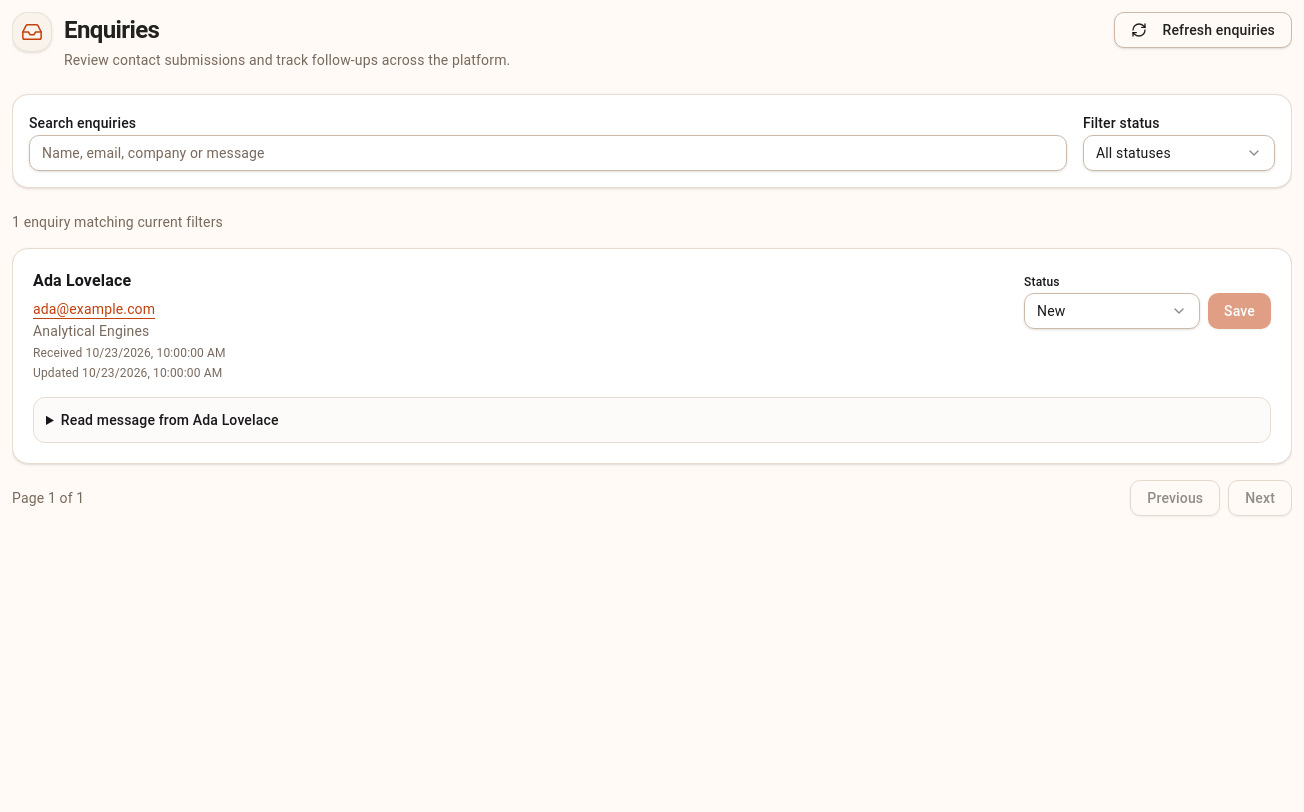
Test case: AdminContacts › reports mutation failure and lets Save retry without losing the selected status
This screenshot has width=1304, height=812.
Check: the heading "Ada Lovelace" is shown, box [33,271,131,290]
Click the dropdown labelled "New" at (1112, 311), box [1024,293,1200,329]
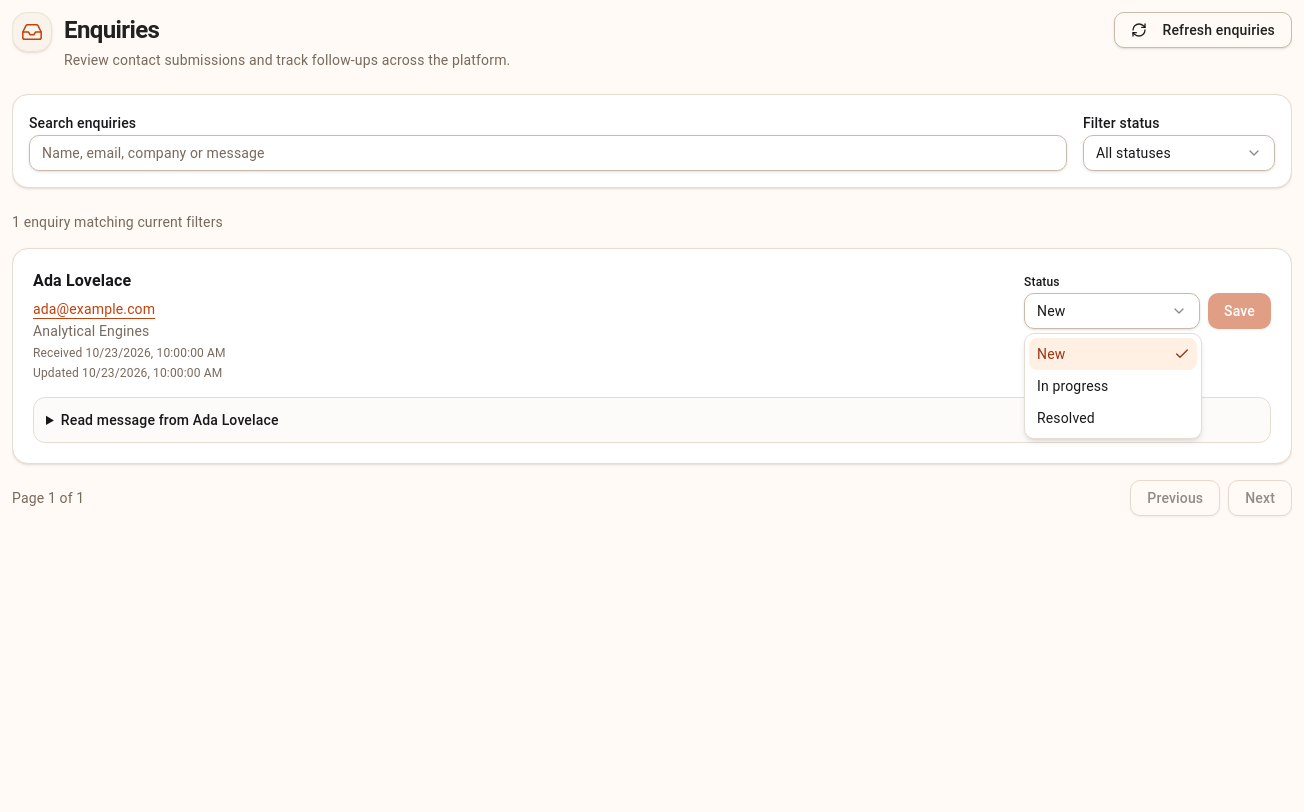
Click the option "Resolved" at (1066, 418), box [1037,410,1095,426]
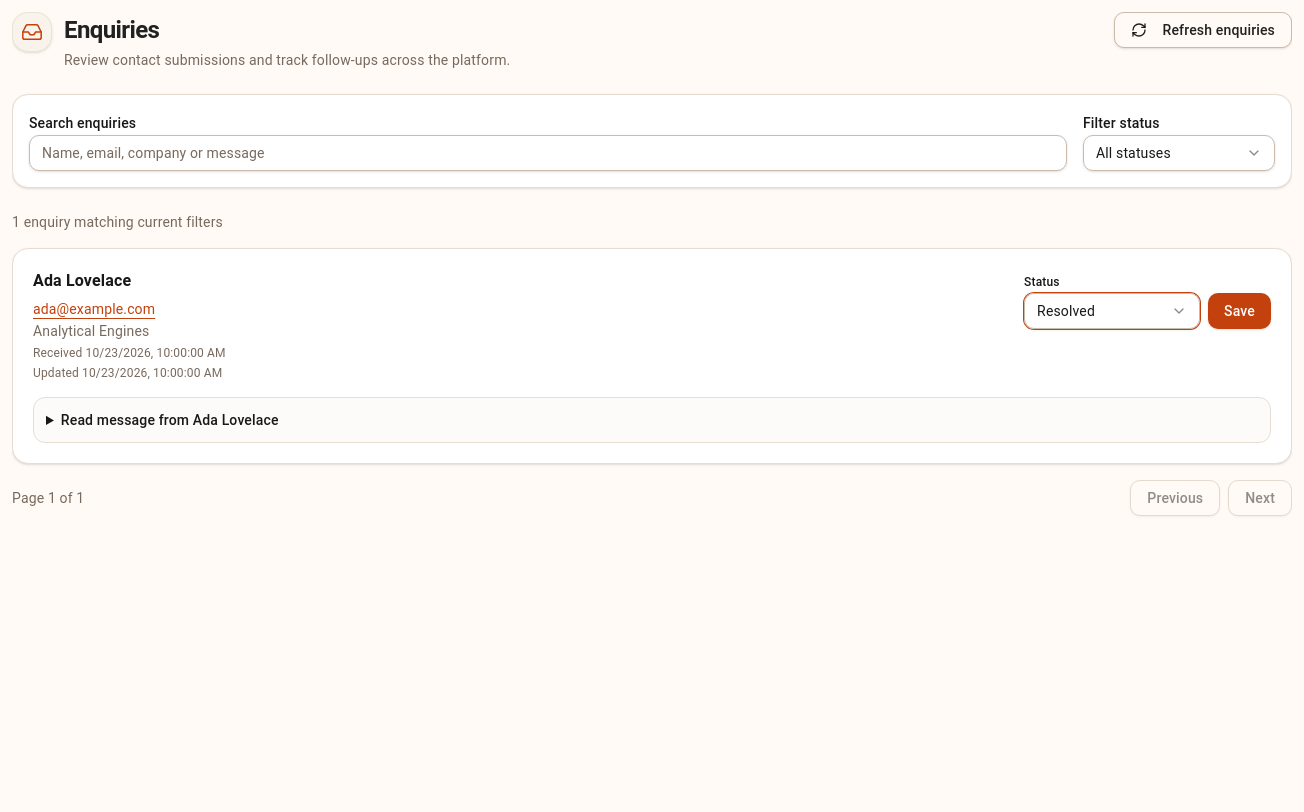
Click the button "Save" at (1240, 311), box [1208,293,1271,329]
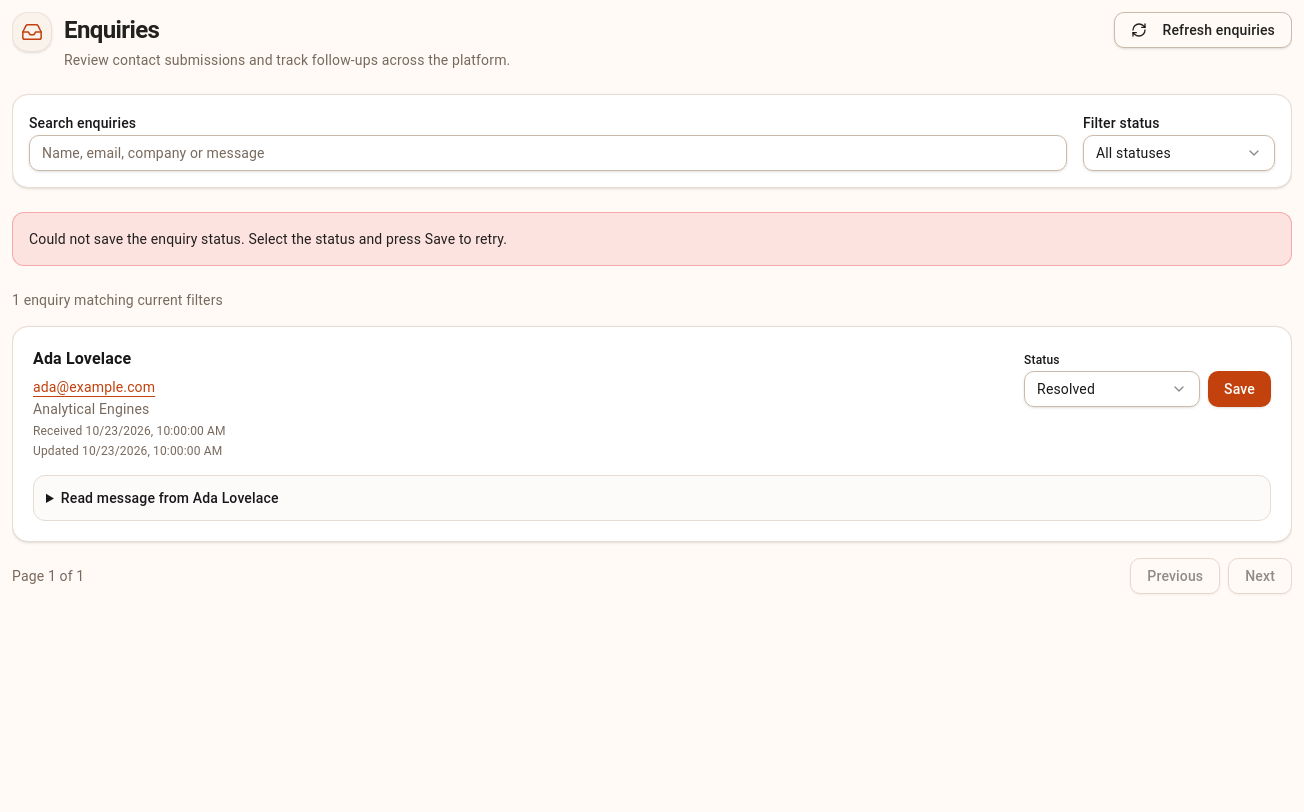
Check: the message shows "Could not save", box [29,231,507,247]
Click the button "Save" at (1240, 389), box [1208,371,1271,407]
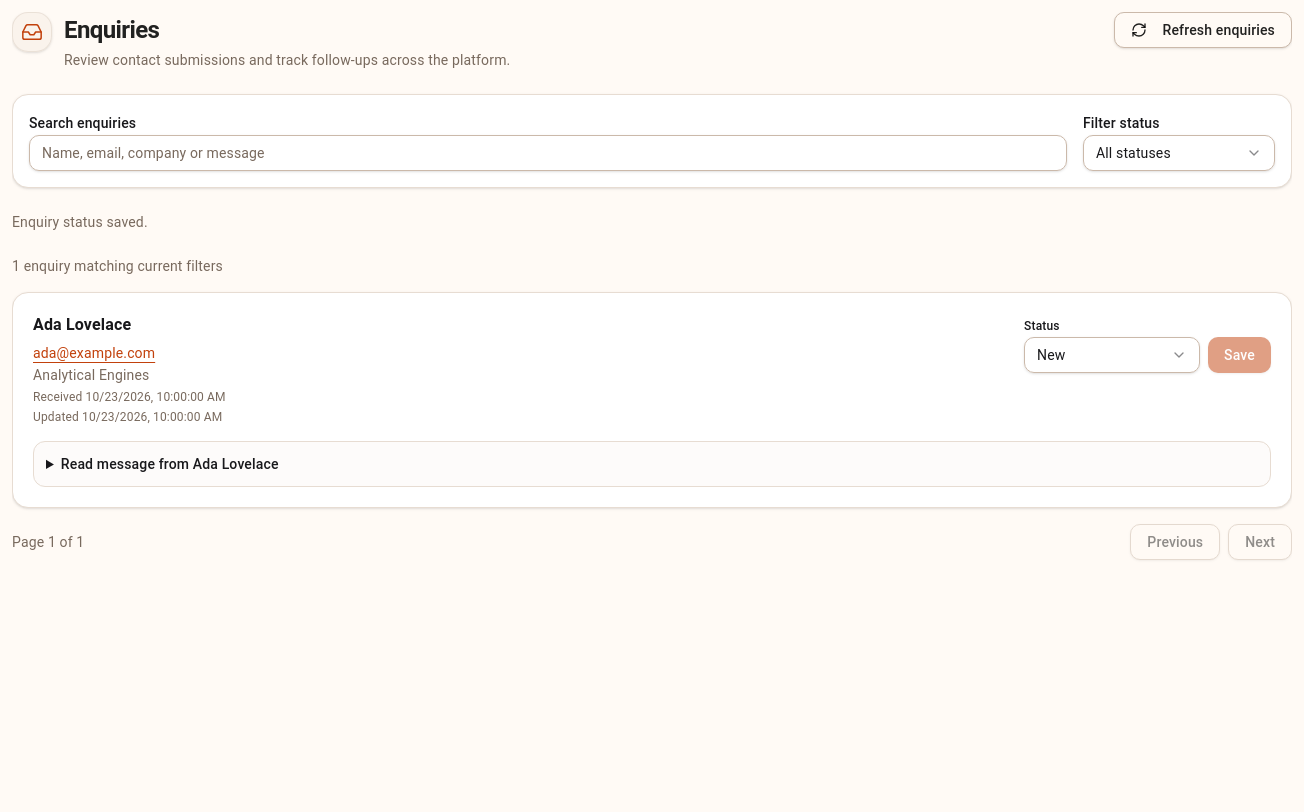
Check: the text "Enquiry status saved." is shown, box [12,214,148,230]
